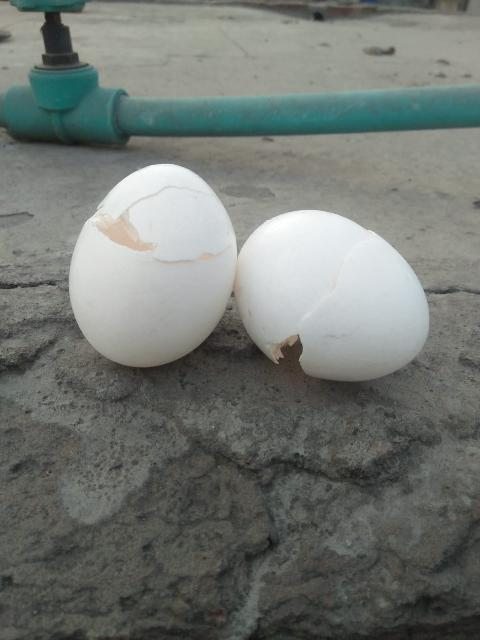Roto: (68, 162, 238, 368), (233, 208, 430, 382)
